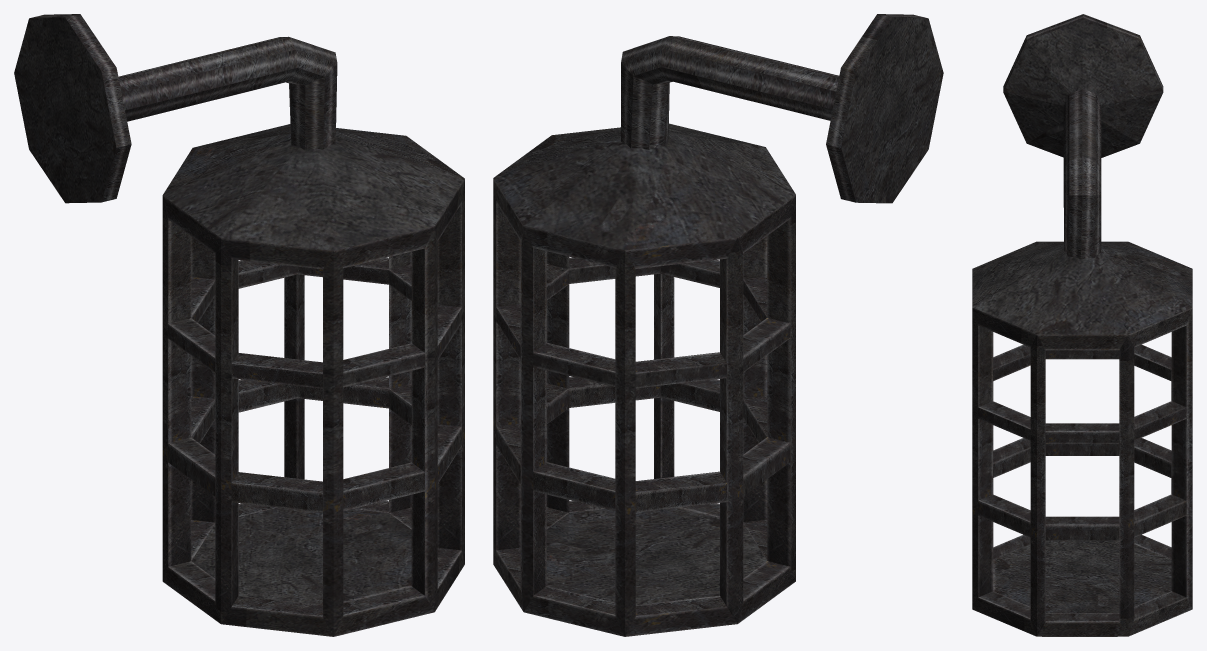
File: tavern_lamp1.dae
3 views of the same model, side by side, from view 1: azimuth 30°, elevation 25°; view 2: azimuth 150°, elevation 25°; view 3: azimuth 270°, elevation 25° (orthographic). The views are drawn at different scales.
Parts seen in each view (by area): view 1: Default_Layer; view 2: Default_Layer; view 3: Default_Layer.
Part boxes in pixels (x1,y1,x2,y2): Default_Layer: [14, 14, 464, 636]; Default_Layer: [493, 14, 943, 636]; Default_Layer: [972, 14, 1192, 636].
Size of the model in its own units: 0.7003 by 1.22 by 0.4621.
